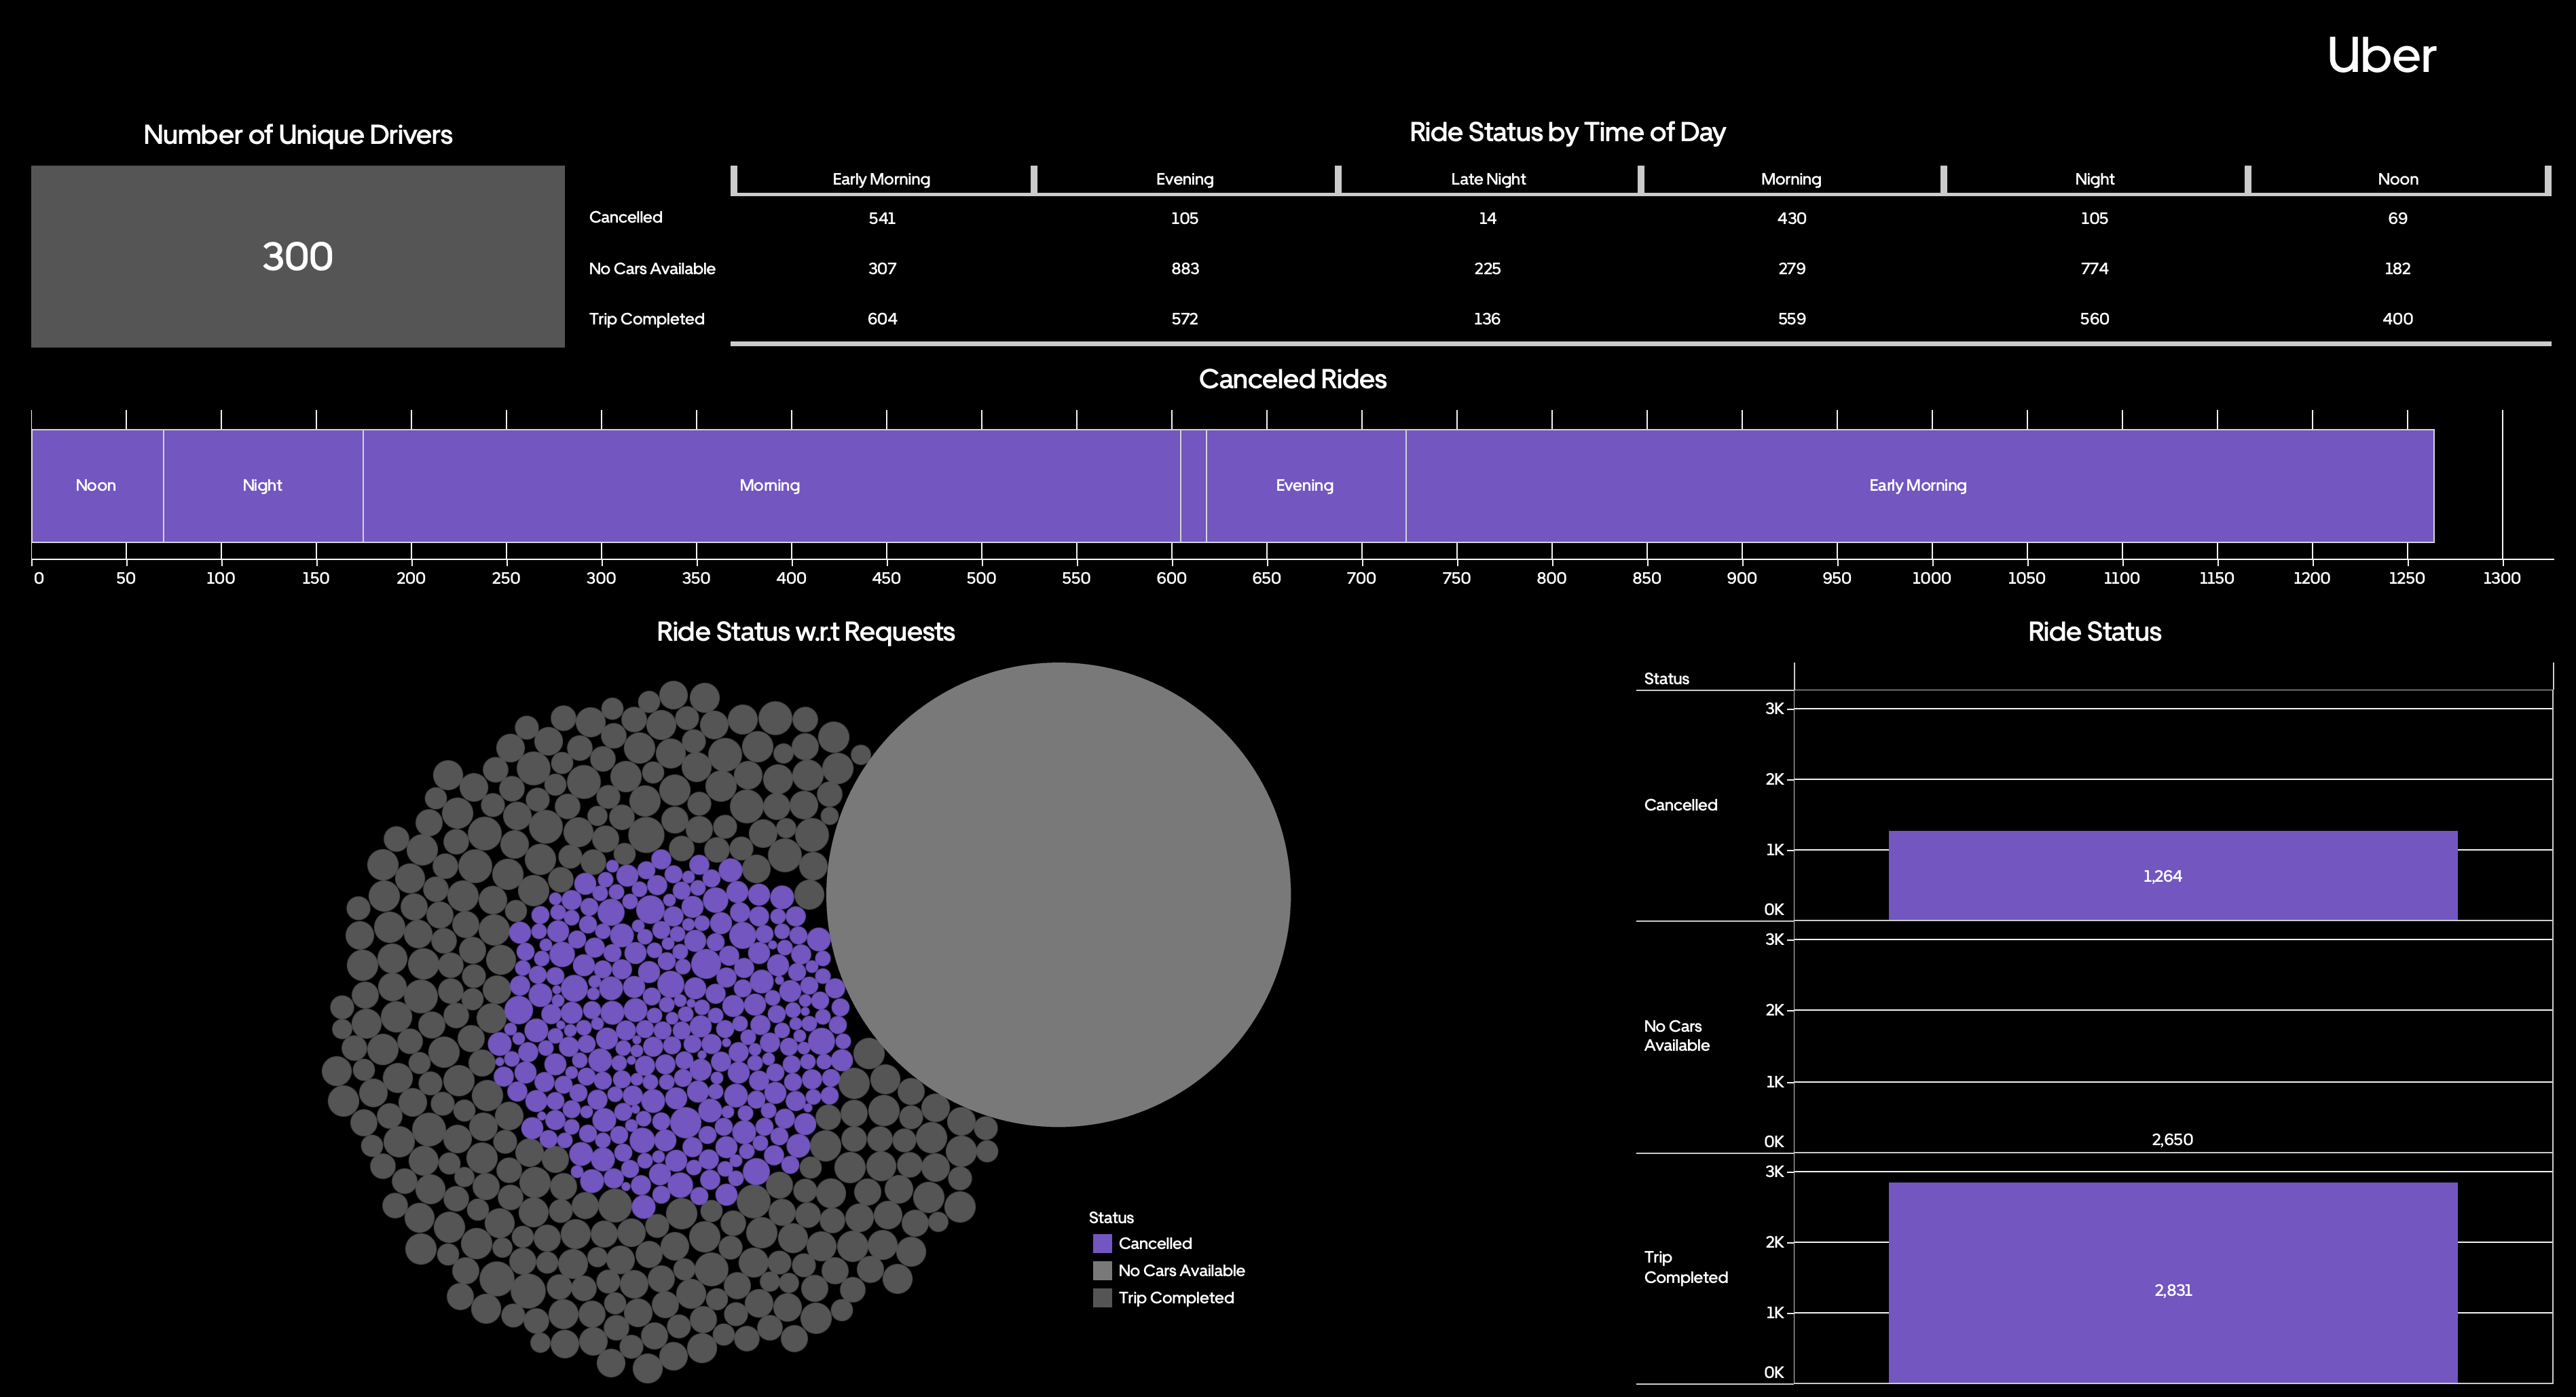

What the dashboard file says about the page in this screenshot:
{"tool":"tableau","page":{"name":"Uber Dashboard","canvas":[1000,1000],"units":"permille","ordinal":0},"visuals":[{"type":"text","box":[849,12.5,142,70]},{"type":"worksheet","title":"Ride Data","mark":"Automatic","rows":["Status"],"box":[228,86.2,758,167.5]},{"type":"worksheet","title":"Number of Unique Drivers","mark":"Automatic","box":[18,88.8,205,165]},{"type":"worksheet","title":"Canceled Rides Graphic","mark":"Automatic","cols":["Calculation_1101411639563026432"],"box":[18,260,968,170]},{"type":"worksheet","title":"Ride Statuses Graphic","mark":"Circle","box":[18,437.5,595,542.5]},{"type":"worksheet","title":"Ride Statuses","mark":"Automatic","rows":["Status","Driver id"],"box":[634,437.5,352,543.8]},{"type":"legend","title":"Ride Statuses Graphic","param":"[federated.00kx39s1y81zm61d2238v0muewxw].[none:Status:nk]","box":[424,857.5,140,95]}]}

Visuals, with their boxes on the dashboard's canvas, which has no fixed pixel size, in thousandths of its width and height (x1, y1, x2, y2). These are canvas units, not pixel positions in the 2576x1397 screenshot, which may show the page scaled, cropped or inside an application window:
text: (left=849, top=12, right=991, bottom=82)
"Ride Data" worksheet: (left=228, top=86, right=986, bottom=254)
"Number of Unique Drivers" worksheet: (left=18, top=89, right=223, bottom=254)
"Canceled Rides Graphic" worksheet: (left=18, top=260, right=986, bottom=430)
"Ride Statuses Graphic" worksheet (Circle marks): (left=18, top=438, right=613, bottom=980)
"Ride Statuses" worksheet: (left=634, top=438, right=986, bottom=981)
"Ride Statuses Graphic" legend: (left=424, top=858, right=564, bottom=952)
